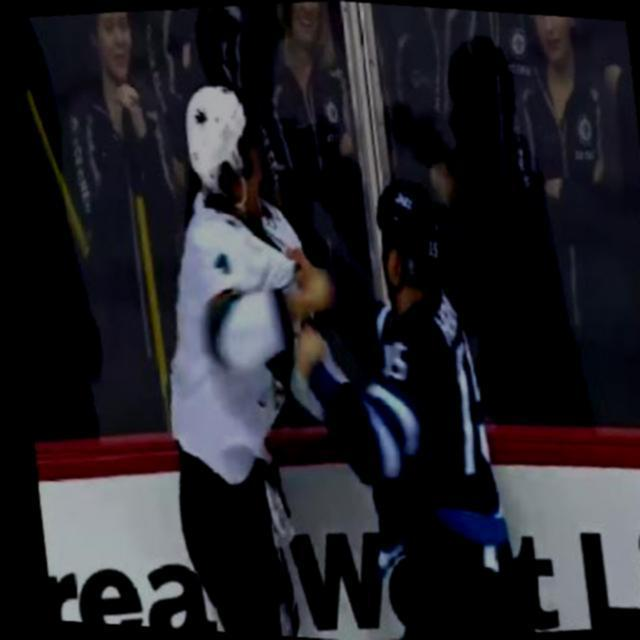fight: (83, 33, 562, 640)
